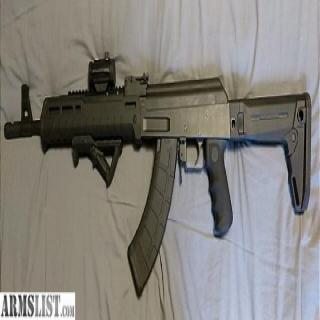gun: (3, 55, 311, 296)
